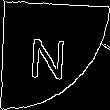N_N: (34, 29, 76, 81)
